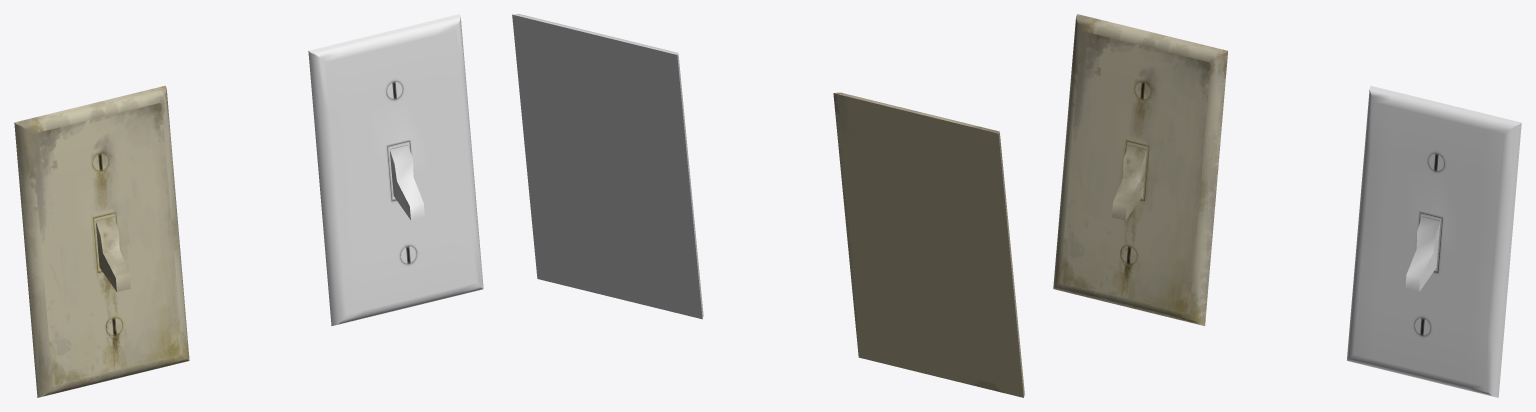
The model's file is simple_light_switch.glb.
3 views of the same model, side by side, from view 1: azimuth 30°, elevation 25°; view 2: azimuth 150°, elevation 25°; view 3: azimuth 330°, elevation 25° (orthographic). The views are drawn at different scales.
Parts seen in each view (by area): view 1: Object_5, Object_3; view 2: Object_5, Object_3; view 3: Object_5, Object_3.
Part boxes in pixels (bbox=[...]): Object_5: bbox=[14, 85, 189, 397]; Object_3: bbox=[308, 14, 483, 325]; Object_5: bbox=[833, 92, 1024, 397]; Object_3: bbox=[512, 14, 703, 319]; Object_5: bbox=[1053, 14, 1227, 325]; Object_3: bbox=[1347, 86, 1521, 397].
Bounding box in the file's own units: 6 × 3.33 × 0.7991.
Materials: 2 (2 with a texture image).
